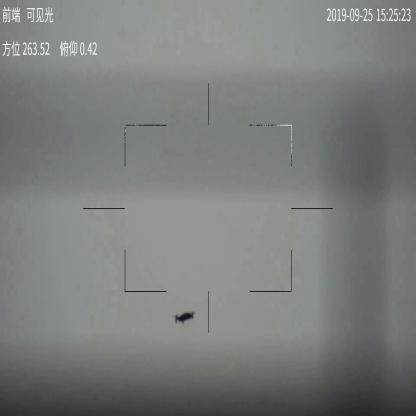uav: (173, 308, 194, 324)
